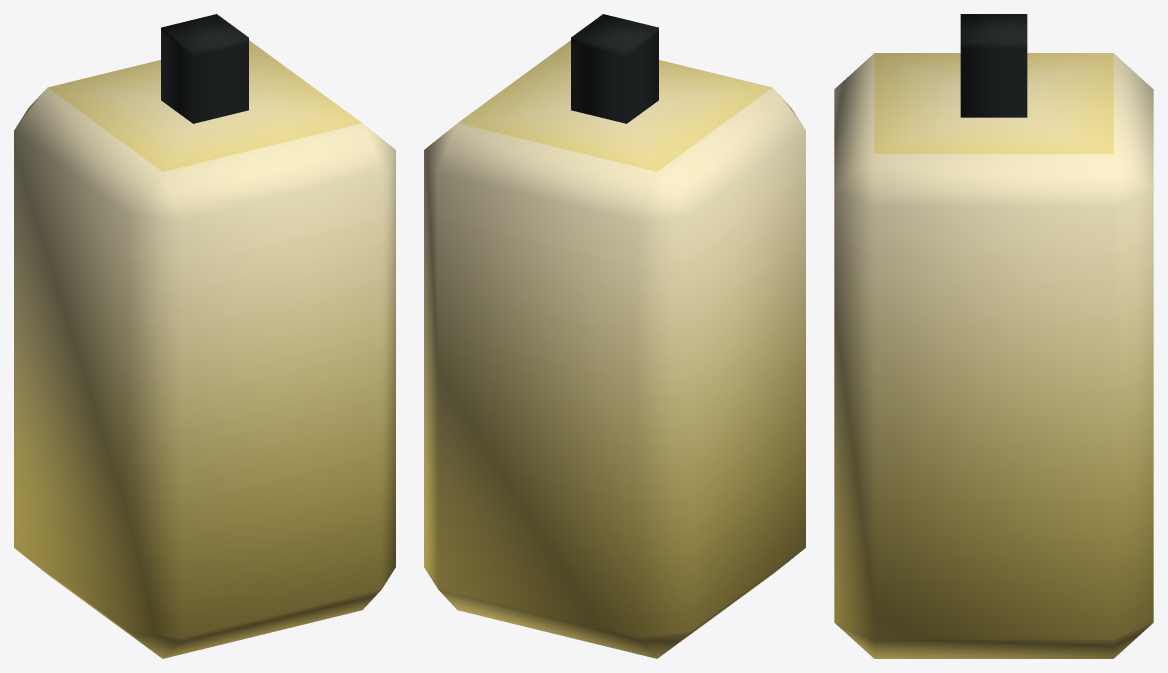
The model's file is candle_big_1.fbx.
The picture shows the model from 3 angles, left to right: view 1: azimuth 30°, elevation 25°; view 2: azimuth 150°, elevation 25°; view 3: azimuth 270°, elevation 25°; orthographic projection. The views are drawn at different scales.
Visible parts, largest first — view 1: candle_big_1; view 2: candle_big_1; view 3: candle_big_1.
Boxes of the visible parts, box(x1,y1,x2,y2) form: candle_big_1: box(14, 14, 395, 658); candle_big_1: box(424, 14, 805, 658); candle_big_1: box(834, 14, 1153, 658).
Bounding box in the file's own units: 39.91 × 80.1 × 39.91.
